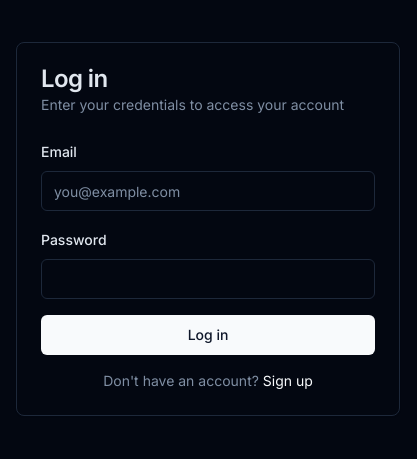
Test case: LoginPage › shows generic error for invalid credentials
Expected: the heading "Log in" is shown, [41,64,108,93]
Type "test@example.com" into the field labelled "Email".
click(208, 191); type("test@example.com")  # box [41,171,375,211]
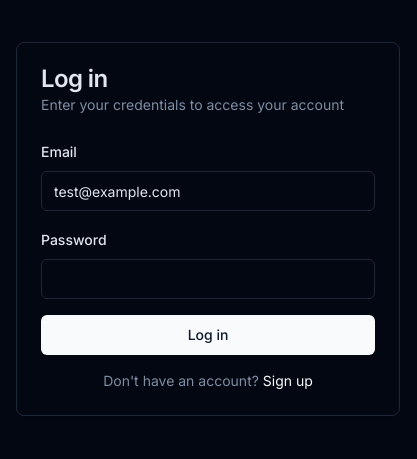
Type "wrongpassword" into the password field labelled "Password".
click(208, 279); type("wrongpassword")  # box [41,259,375,299]
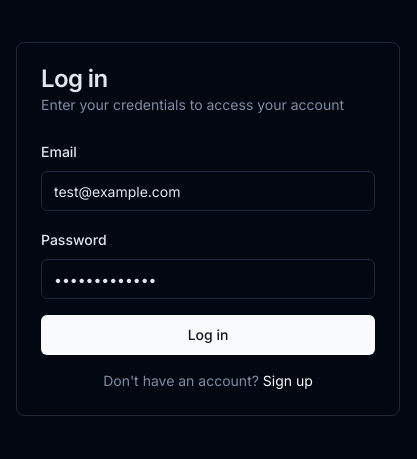
Click the button "Log in".
click(208, 335)  # box [41,315,375,355]
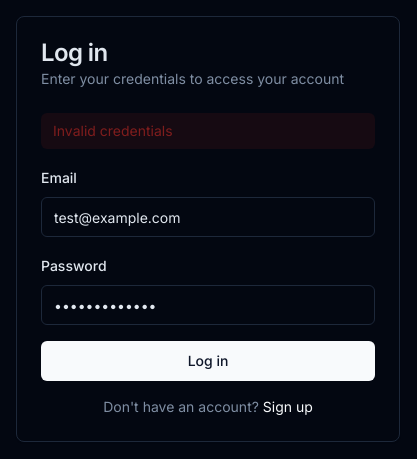
Expected: the text "Invalid credentials" is shown, [41,113,375,149]
